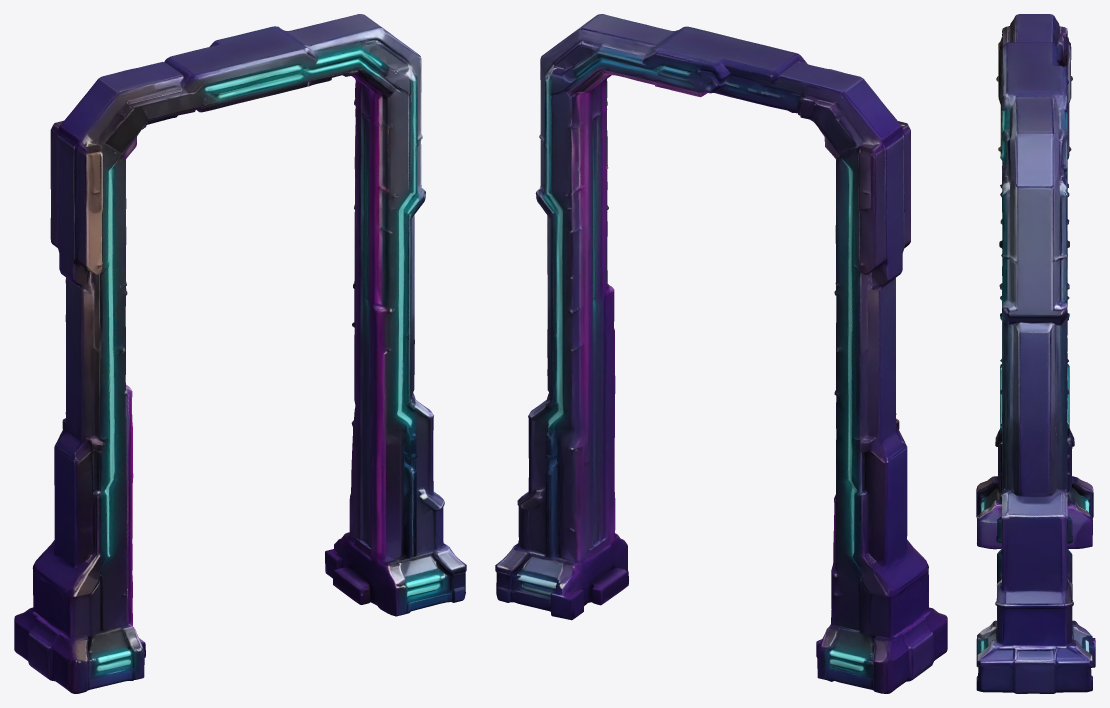
The model's file is gate-arch.glb.
3 renders of one model, left to right at view 1: azimuth 30°, elevation 25°; view 2: azimuth 150°, elevation 25°; view 3: azimuth 270°, elevation 25°, orthographic. The views are drawn at different scales.
Visible parts, largest first — view 1: tripo_node_9c44b38f-44d6-4cd1-9909-a77069a07772; view 2: tripo_node_9c44b38f-44d6-4cd1-9909-a77069a07772; view 3: tripo_node_9c44b38f-44d6-4cd1-9909-a77069a07772.
Part boxes in pixels (x1=…): tripo_node_9c44b38f-44d6-4cd1-9909-a77069a07772: x1=14, y1=14, x2=466, y2=693; tripo_node_9c44b38f-44d6-4cd1-9909-a77069a07772: x1=495, y1=14, x2=947, y2=693; tripo_node_9c44b38f-44d6-4cd1-9909-a77069a07772: x1=976, y1=14, x2=1095, y2=693.
Size of the model in its own units: 0.7279 by 1 by 0.202.
1 material, 1 textured.
